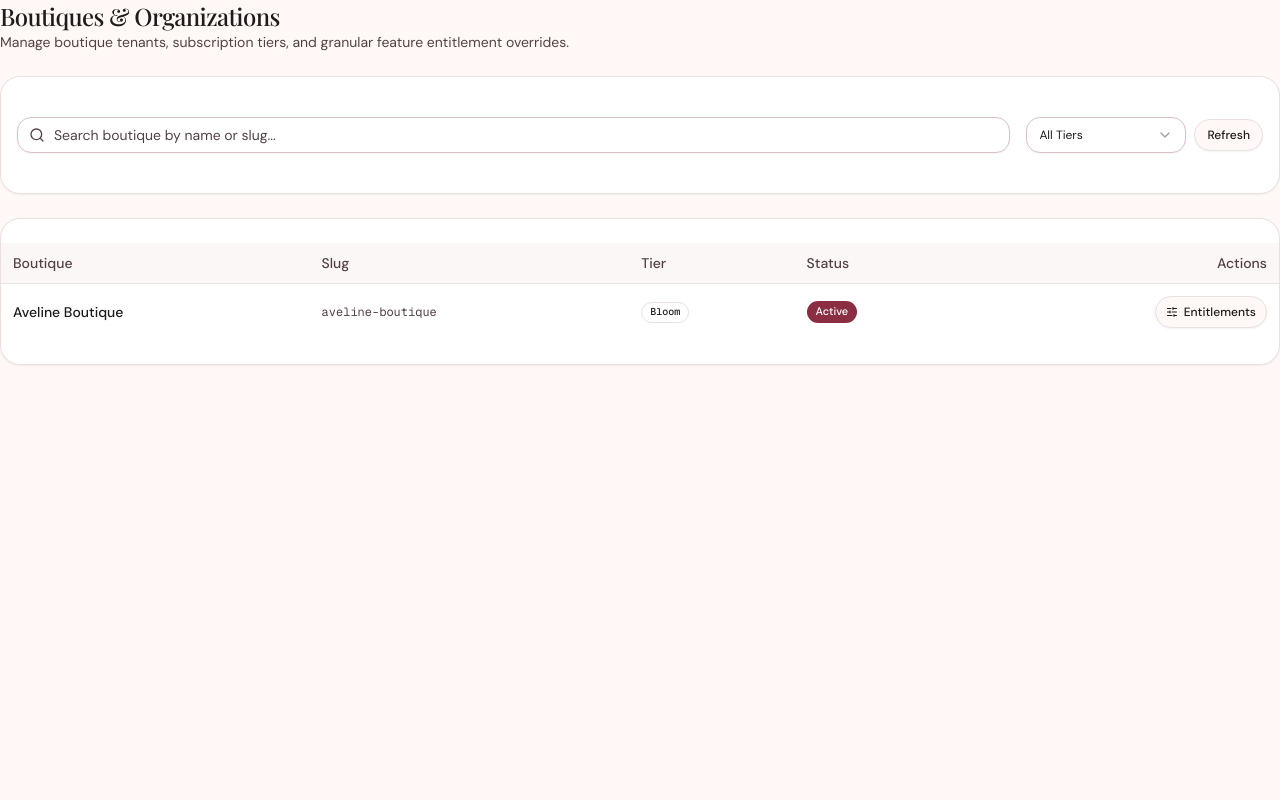
Test: AdminOrgsView entitlement overrides › renders a field-level error for a 400 validation problem
Expected: the text "Aveline Boutique" is shown, top-left (1, 283), bottom-right (310, 340)
Click the button "Entitlements" at (1211, 312), box top-left (1155, 296), bottom-right (1267, 328)
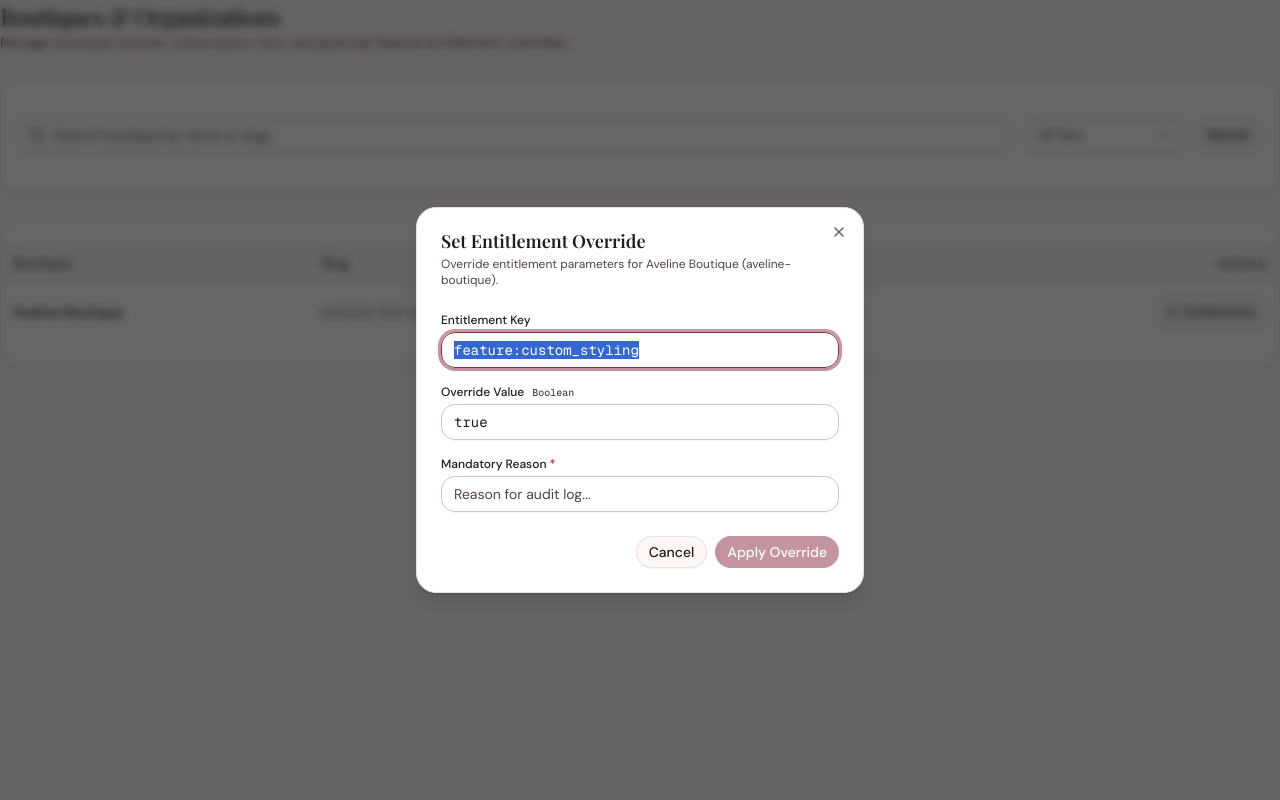
Type "contract term" into the field with placeholder "Reason for audit log..." at (640, 494), box top-left (441, 476), bottom-right (839, 512)
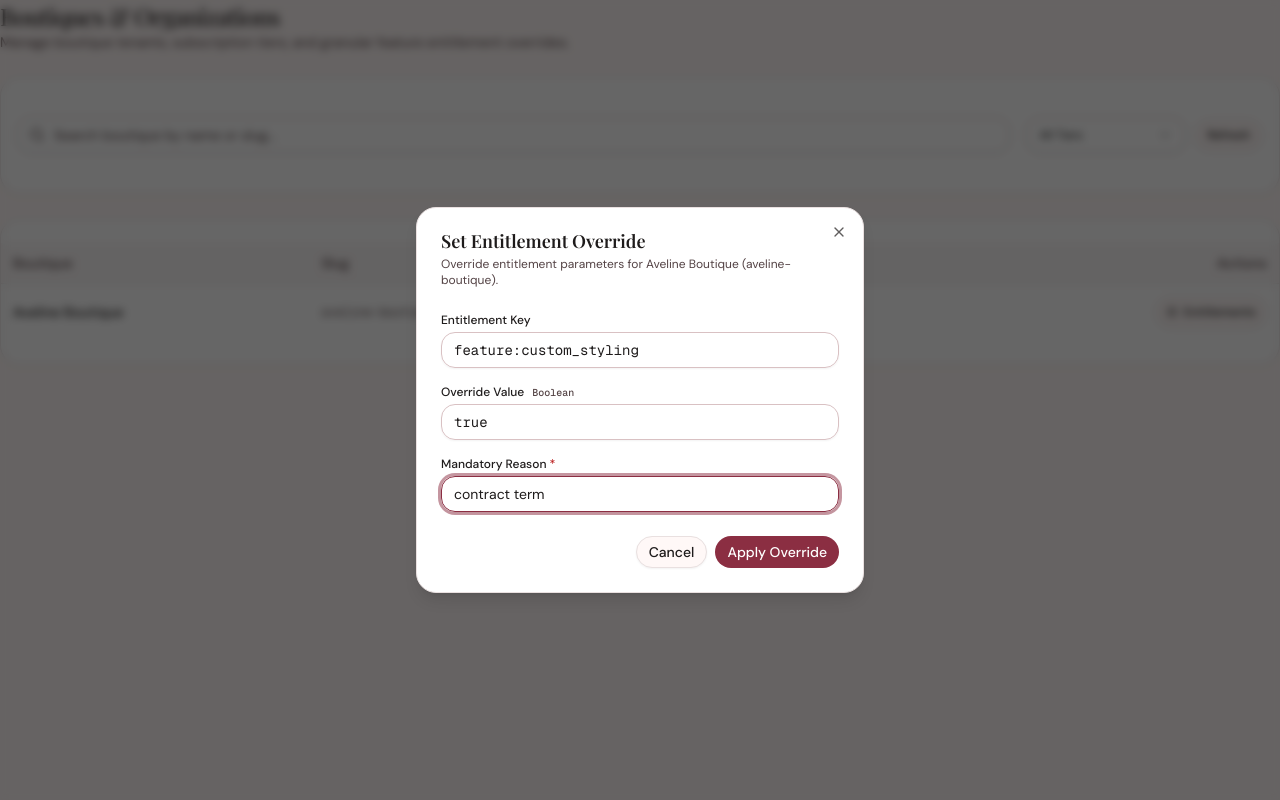
Click the button "Apply Override" at (777, 552), box top-left (715, 536), bottom-right (839, 568)
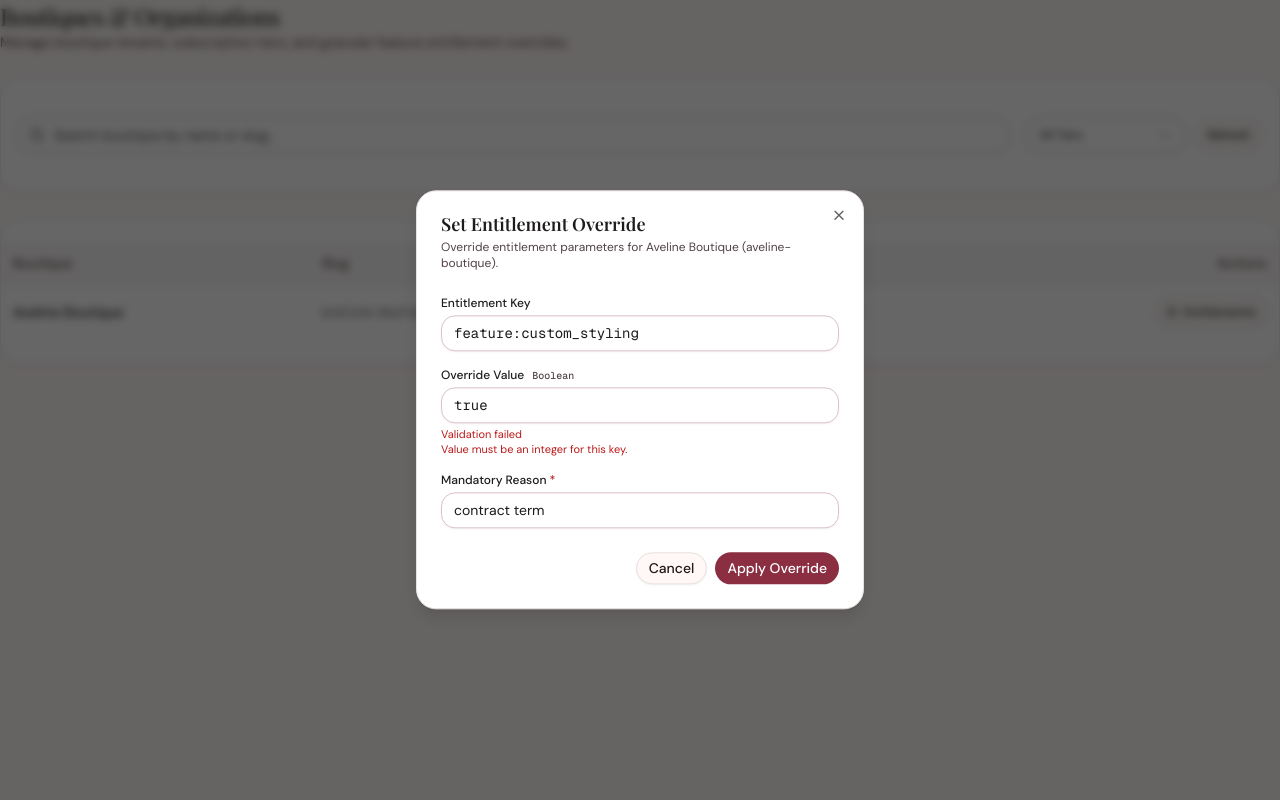
Result: the text "Value must be an integer for this key." is shown at top-left (441, 442), bottom-right (628, 456)
